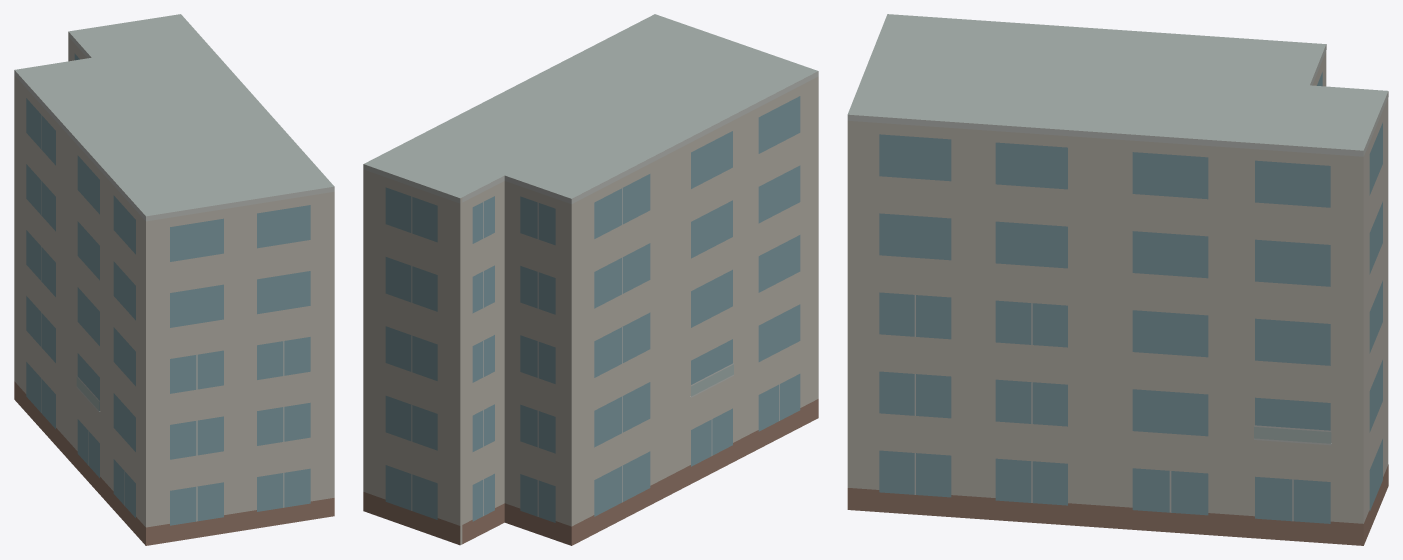
File: survey-upis-32868373.glb
3 renders of one model, left to right at view 1: azimuth 30°, elevation 25°; view 2: azimuth 150°, elevation 25°; view 3: azimuth 270°, elevation 25°, orthographic. The views are drawn at different scales.
Visible parts, largest first — view 1: survey-upis-32868373.tmp; view 2: survey-upis-32868373.tmp; view 3: survey-upis-32868373.tmp.
Boxes of the visible parts, left/top/right/bottom form: survey-upis-32868373.tmp: left=14, top=14, right=334, bottom=545; survey-upis-32868373.tmp: left=363, top=14, right=818, bottom=545; survey-upis-32868373.tmp: left=847, top=14, right=1388, bottom=545.
Size of the model in its own units: 11.73 by 15.8 by 19.61.
